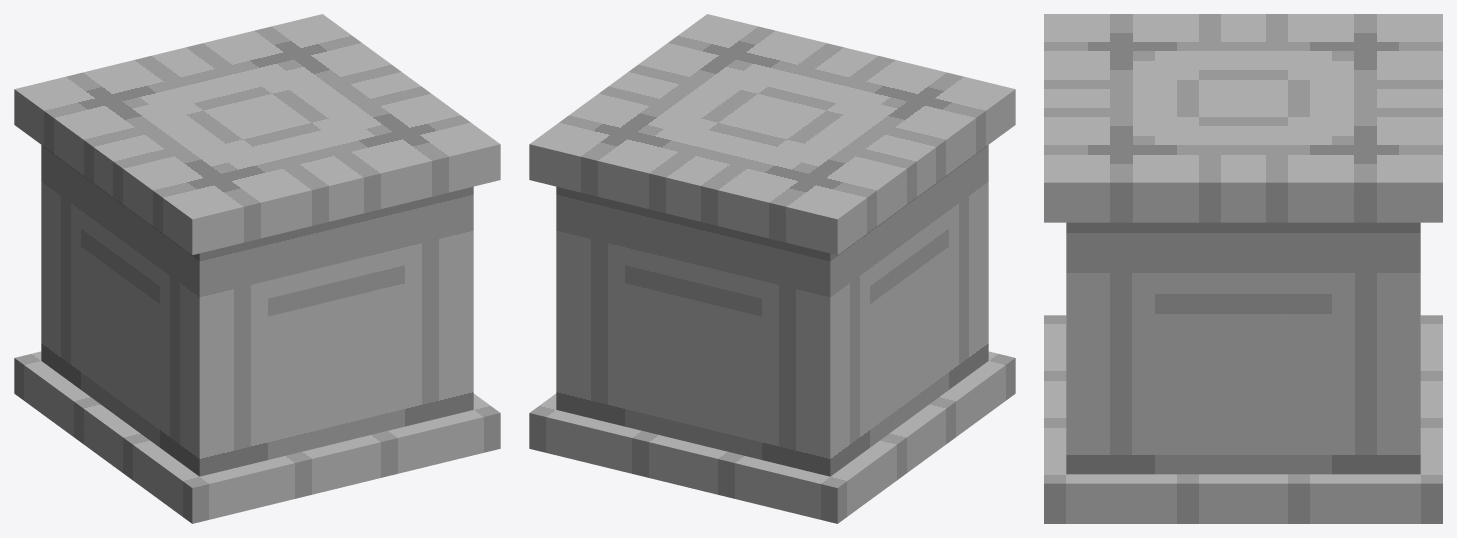
File: Test for Godot.glb
3 renders of one model, left to right at view 1: azimuth 30°, elevation 25°; view 2: azimuth 150°, elevation 25°; view 3: azimuth 270°, elevation 25°, orthographic. The views are drawn at different scales.
Visible parts, largest first — view 1: Middle, Top, Bottom; view 2: Middle, Top, Bottom; view 3: Middle, Top, Bottom.
Part boxes in pixels (x1,y1,x2,y2): Middle: (41,145,473,476); Top: (14,14,500,254); Bottom: (14,351,500,523); Middle: (556,145,988,476); Top: (529,14,1015,254); Bottom: (529,351,1015,523); Middle: (1066,222,1420,474); Top: (1044,14,1442,222); Bottom: (1044,315,1442,523).
Size of the model in its own units: 1.12 by 1.06 by 1.12.
1 material, 1 textured.
